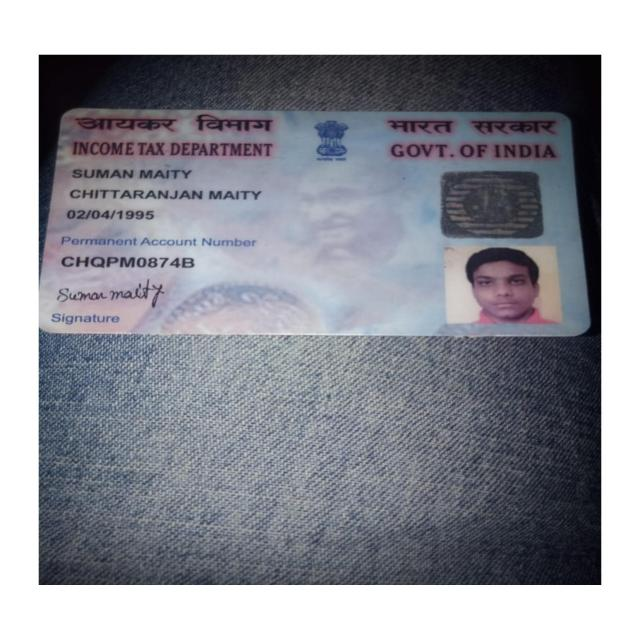pan_card: (46, 108, 584, 331)
